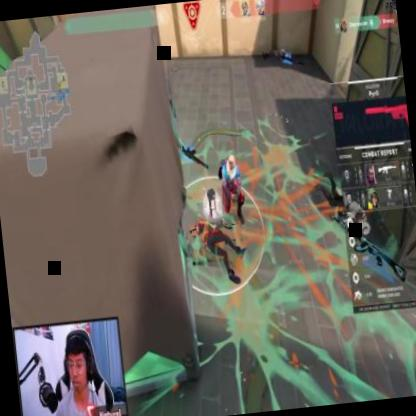enemy: (216, 150, 247, 228)
enemy_head: (226, 154, 236, 172)
